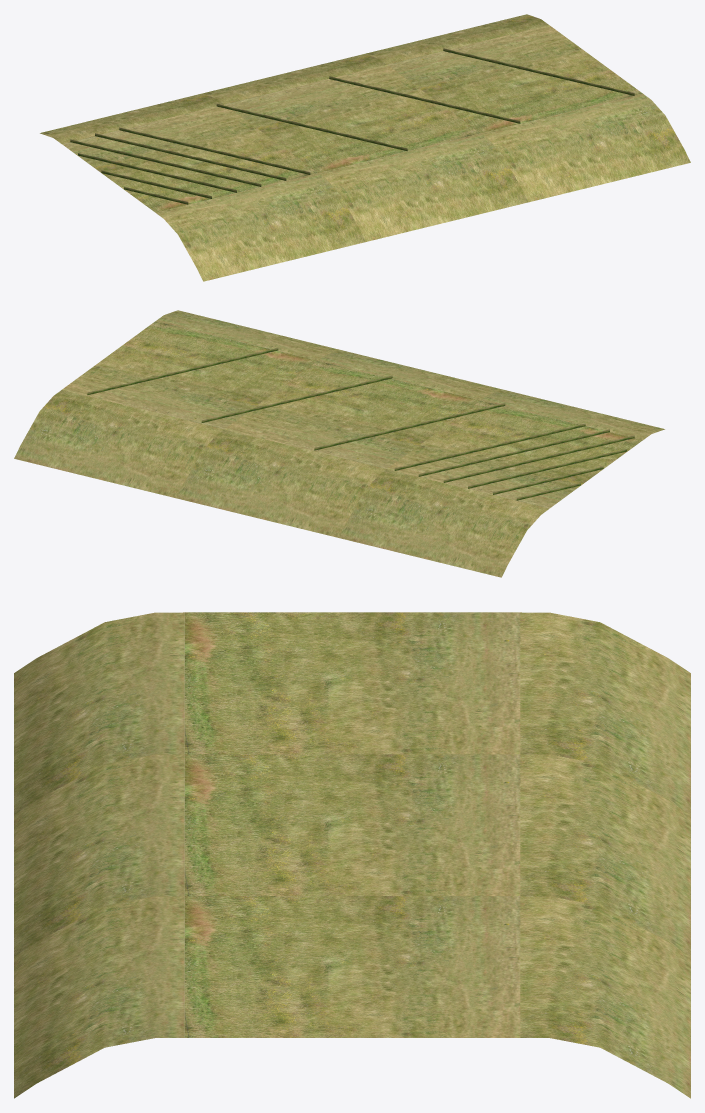
Rendered from poleR2.gltf.
3 views of the same model, one above another, from view 1: azimuth 30°, elevation 25°; view 2: azimuth 150°, elevation 25°; view 3: azimuth 270°, elevation 25° (orthographic). The views are drawn at different scales.
Bounding box in the file's own units: 300 × 22 × 202.
Materials: 1 (1 with a texture image).
